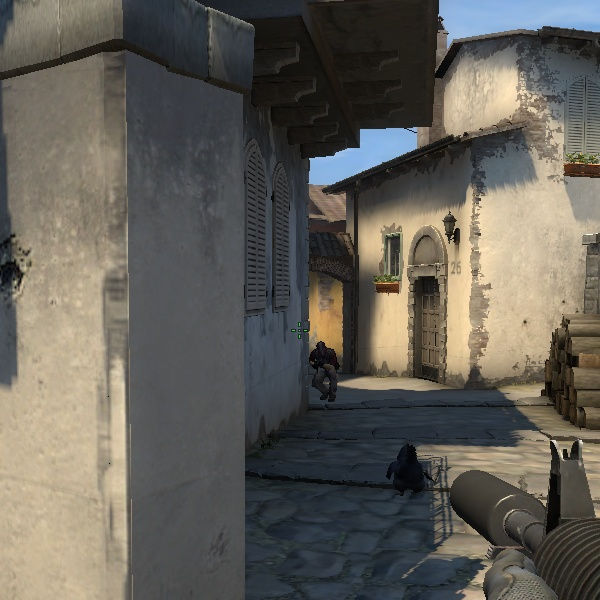t_body: (309, 340, 341, 405)
